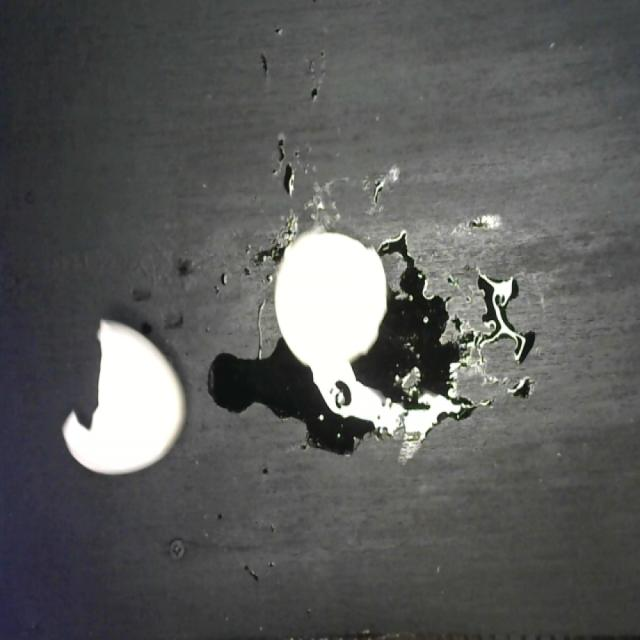biodegradable: (51, 220, 392, 487)
